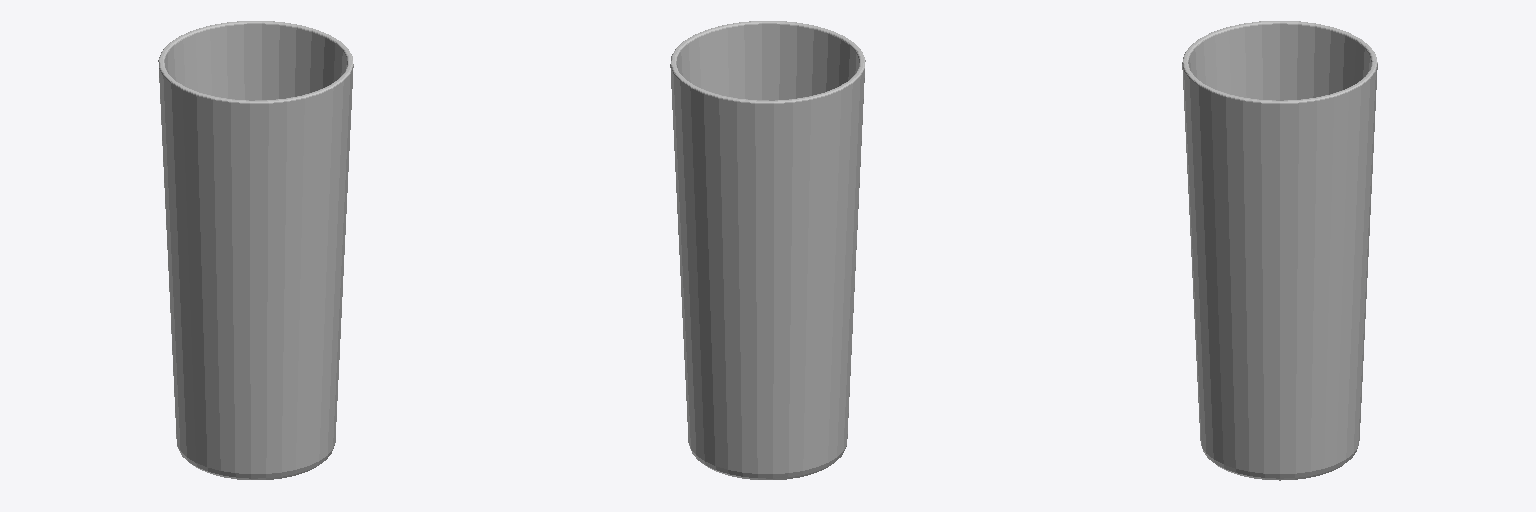
Rendered from Cup.obj.
3 views of the same model, side by side, from view 1: azimuth 30°, elevation 25°; view 2: azimuth 150°, elevation 25°; view 3: azimuth 270°, elevation 25° (orthographic).
Visible parts, largest first — view 1: #GLS0002_Tall_Drinking_Glass_Empty; view 2: #GLS0002_Tall_Drinking_Glass_Empty; view 3: #GLS0002_Tall_Drinking_Glass_Empty.
Boxes of the visible parts, x1,y1,x2,y2 form: #GLS0002_Tall_Drinking_Glass_Empty: [158, 21, 353, 479]; #GLS0002_Tall_Drinking_Glass_Empty: [670, 21, 865, 479]; #GLS0002_Tall_Drinking_Glass_Empty: [1182, 21, 1377, 480].
Bounding box in the file's own units: 0.0729 × 0.1601 × 0.0729.